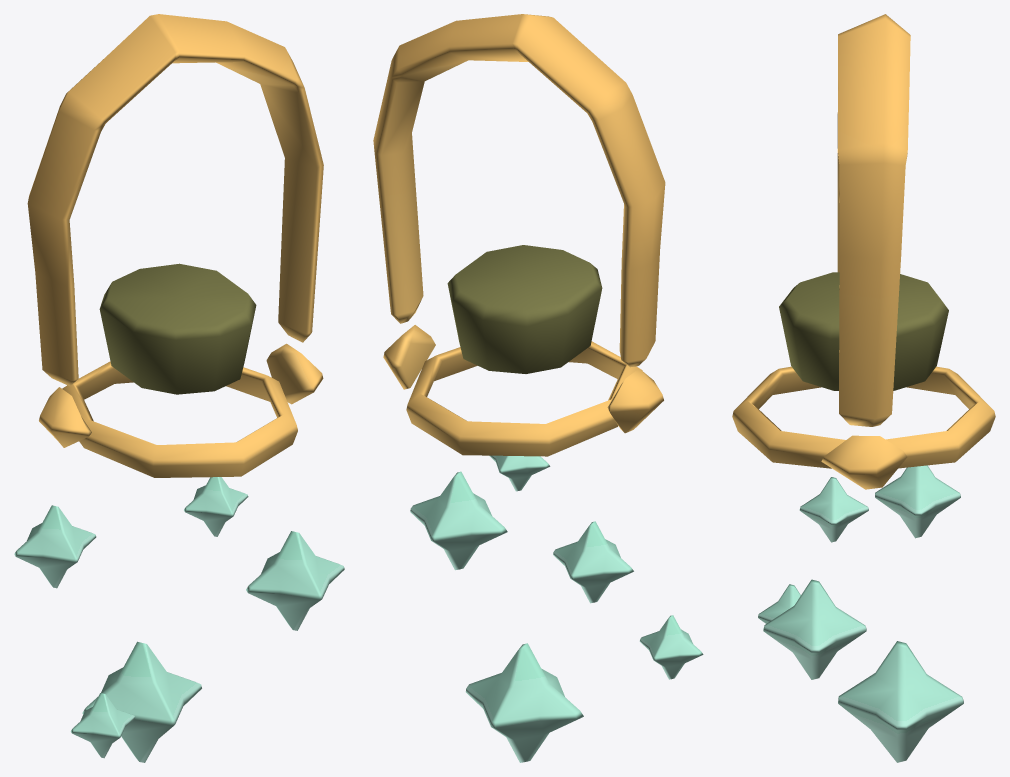
Rendered from CharSkyKid_Prop_StarJar__CharSkyKid_Prop_StarJar_B_CompOcc.glb.
3 views of the same model, side by side, from view 1: azimuth 30°, elevation 25°; view 2: azimuth 150°, elevation 25°; view 3: azimuth 270°, elevation 25° (orthographic).
Parts seen in each view (by area): view 1: CharSkyKid_Prop_StarJar; view 2: CharSkyKid_Prop_StarJar; view 3: CharSkyKid_Prop_StarJar.
Part boxes in pixels (box(x1,y1,x2,y2)): CharSkyKid_Prop_StarJar: box(14, 14, 344, 762); CharSkyKid_Prop_StarJar: box(373, 14, 703, 762); CharSkyKid_Prop_StarJar: box(732, 14, 995, 762).
Size of the model in its own units: 0.1188 by 0.2959 by 0.0944.
1 material, 1 textured.
